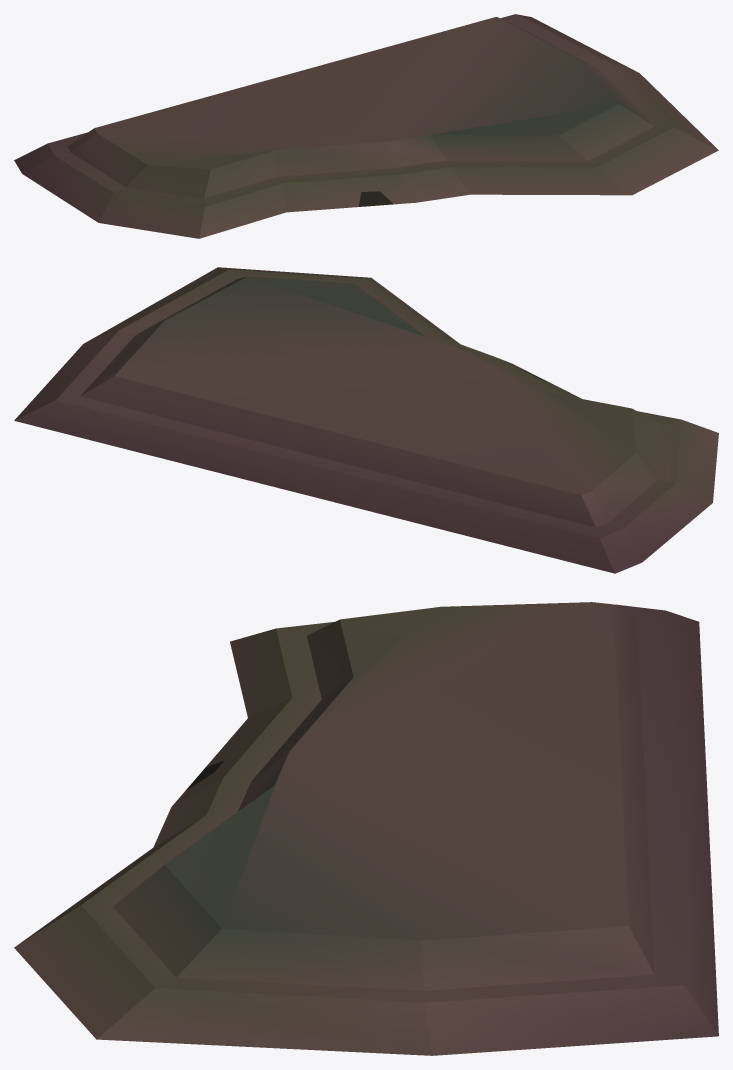
The model's file is hill.fbx.
3 views of the same model, one above another, from view 1: azimuth 30°, elevation 25°; view 2: azimuth 150°, elevation 25°; view 3: azimuth 270°, elevation 25° (orthographic). The views are drawn at different scales.
Parts seen in each view (by area): view 1: Plane; view 2: Plane; view 3: Plane.
Part boxes in pixels (<box>): Plane: <box>14,14,718,238</box>; Plane: <box>14,267,718,573</box>; Plane: <box>14,602,718,1055</box>.
Size of the model in its own units: 7682 by 609 by 4981.
